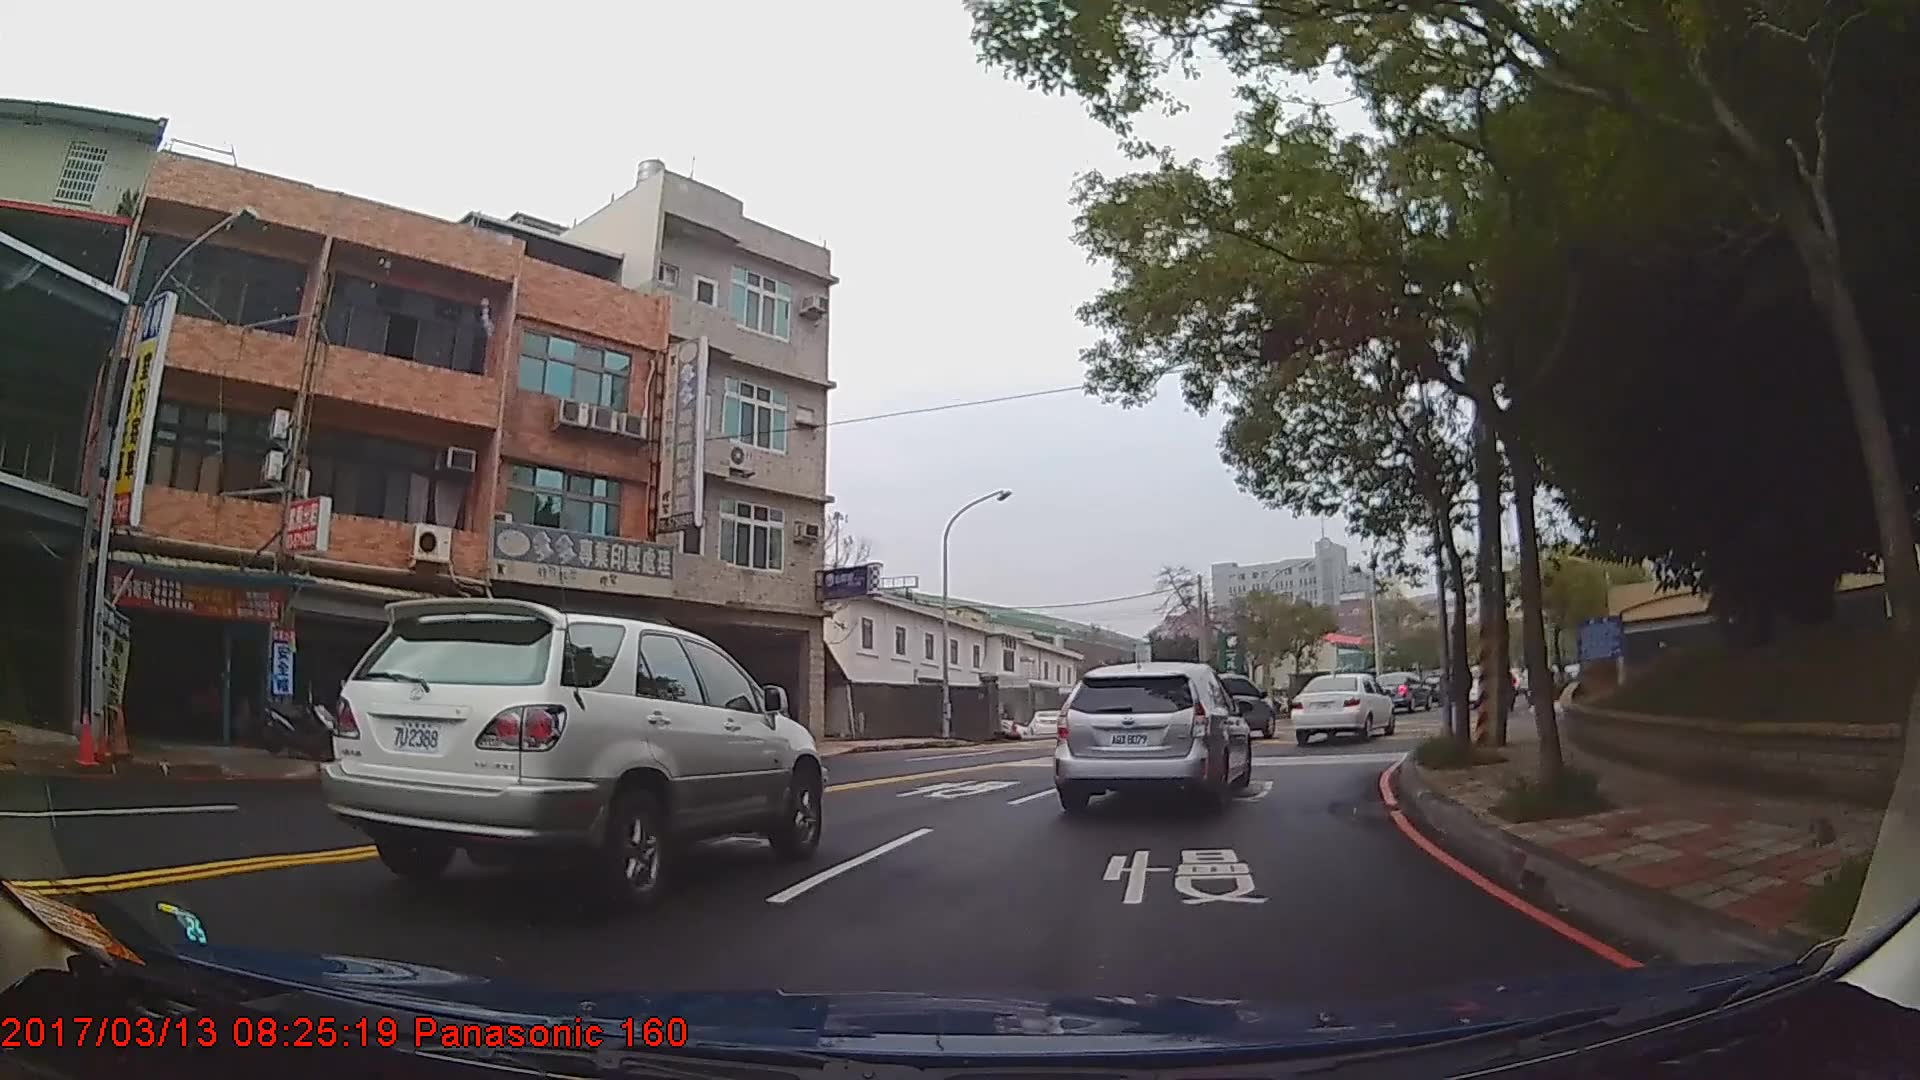vehicle: (318, 596, 825, 913), (1048, 658, 1250, 808), (1288, 671, 1396, 744), (1187, 670, 1276, 744), (1367, 667, 1433, 712), (1026, 708, 1071, 737)
